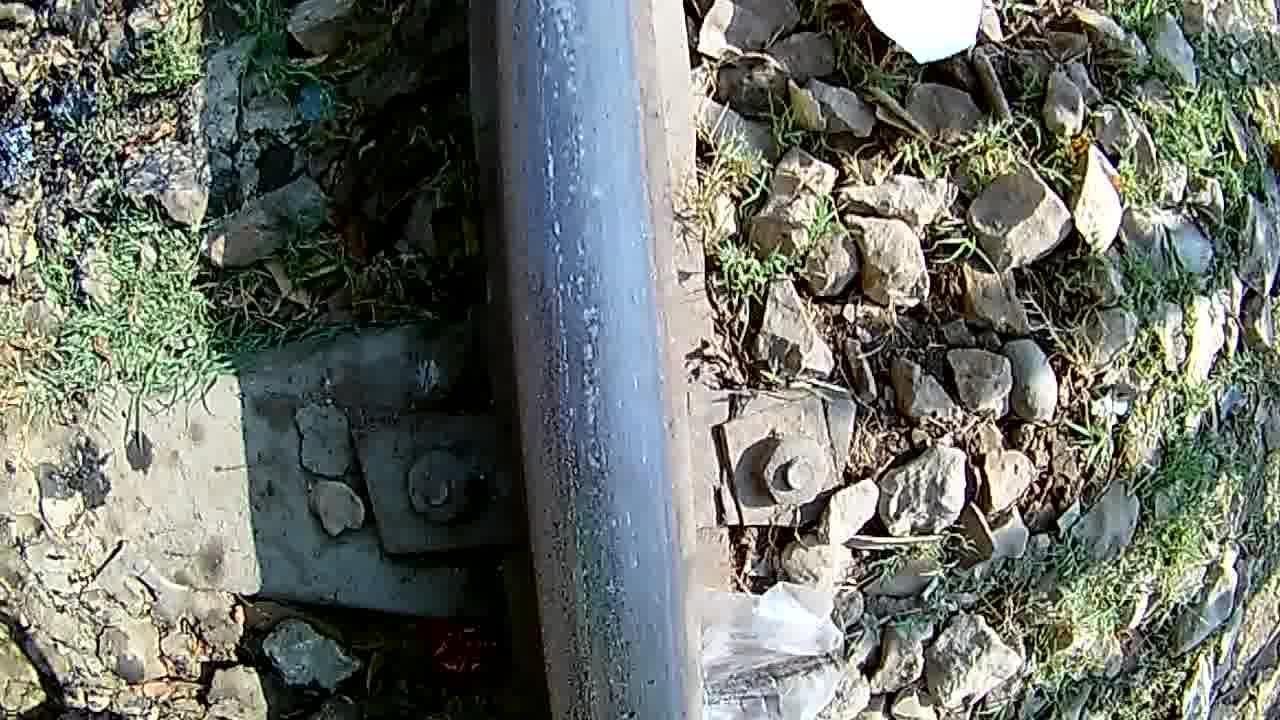crack: (520, 2, 664, 719)
